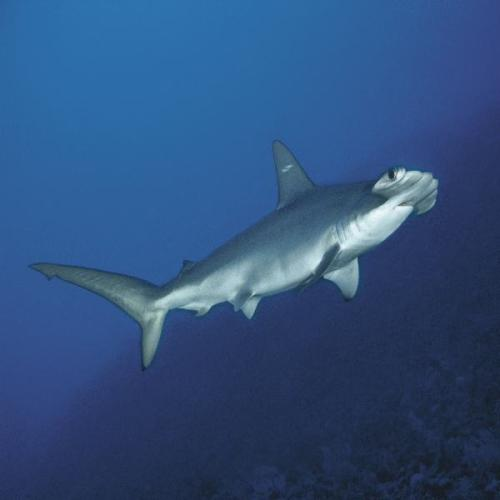shark-endangered: (33, 138, 439, 374)
